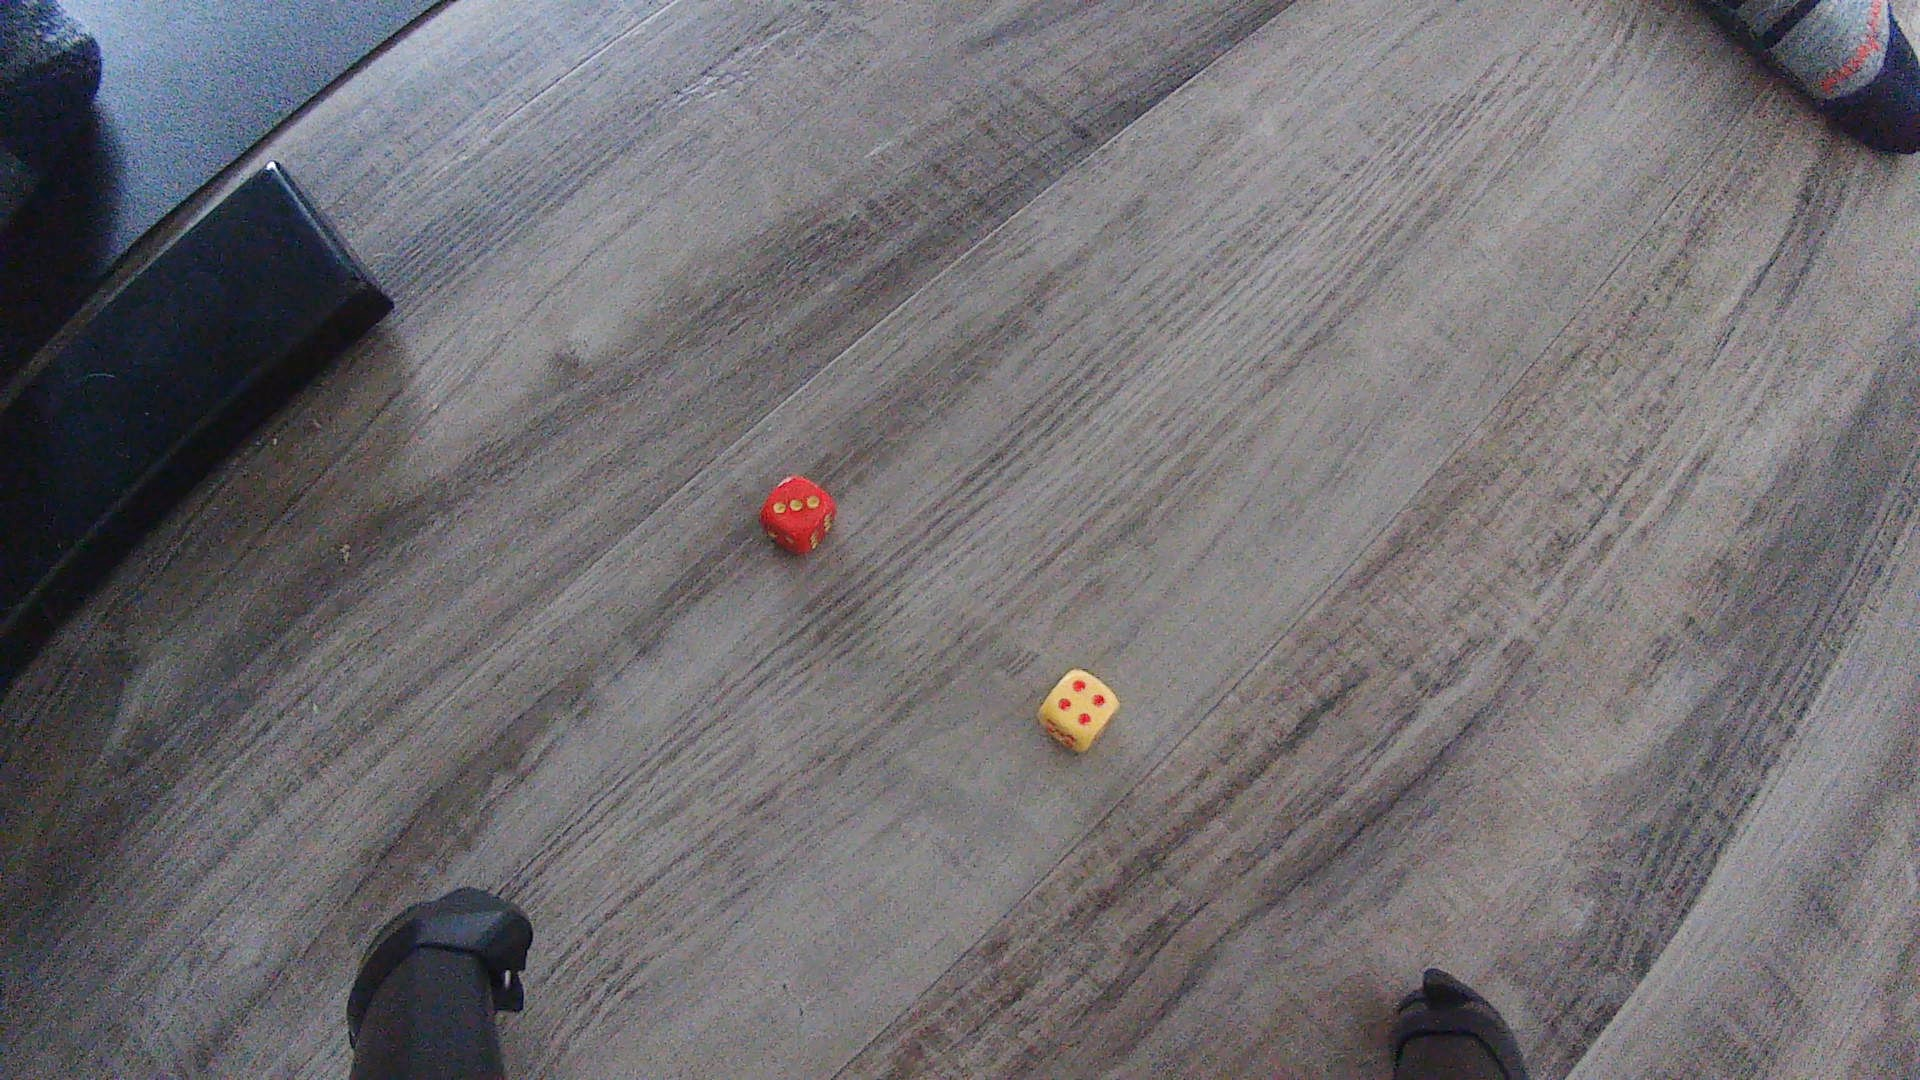die: (1035, 669, 1122, 754), (760, 473, 837, 555)
